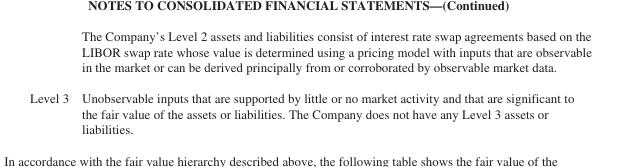table: (28, 28, 590, 136)
table column: (74, 28, 590, 136), (28, 28, 74, 136)
table column header: (28, 28, 590, 82)
table row: (28, 28, 590, 82), (28, 82, 590, 136)
